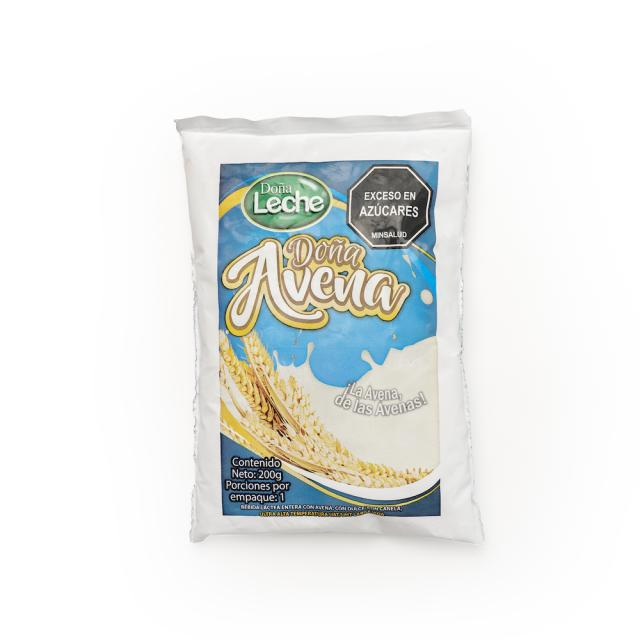avena: (227, 371, 333, 463)
